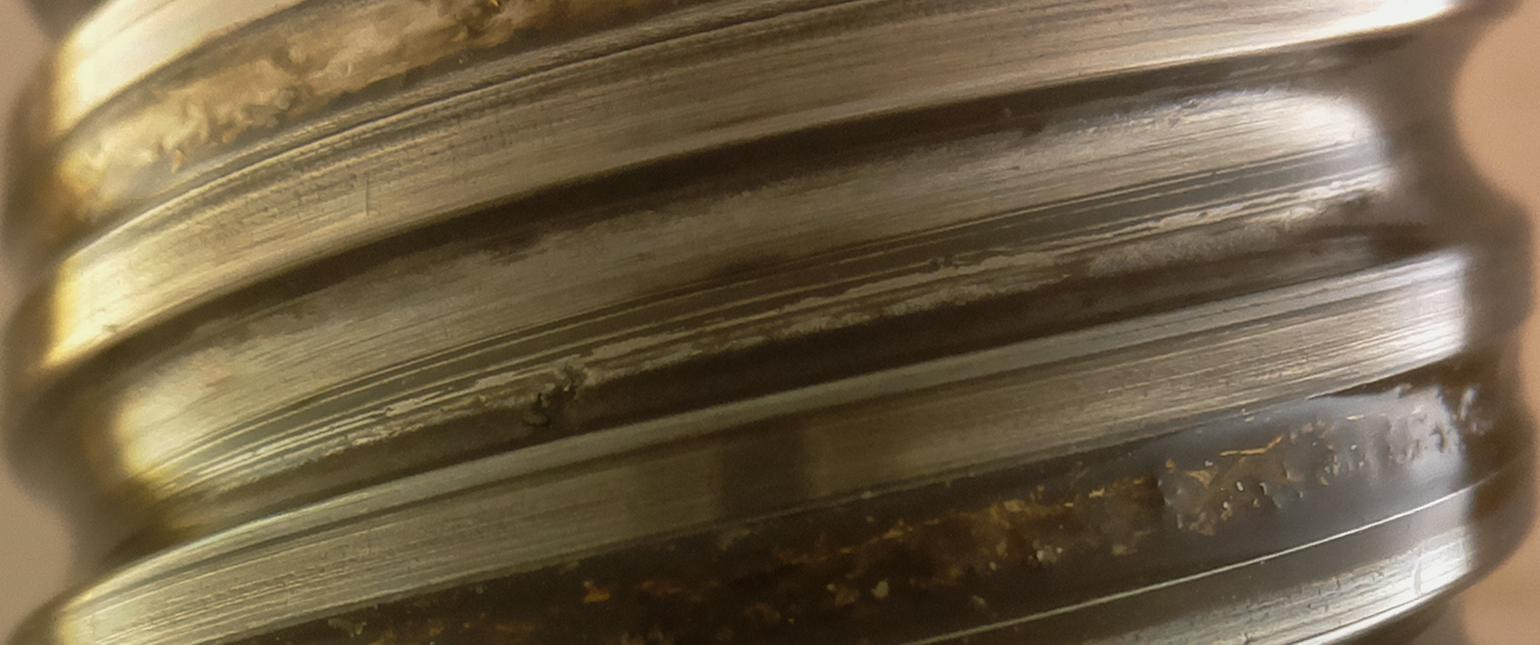pitting: (507, 383, 576, 450)
